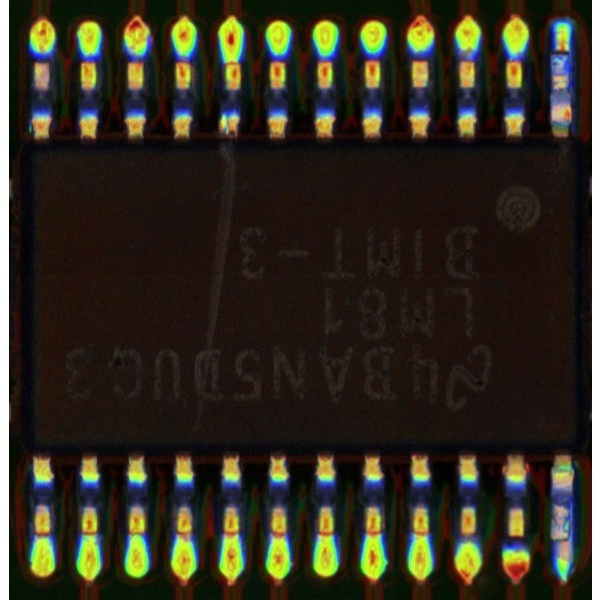Bad_podu: (556, 528, 568, 555), (555, 38, 564, 65)
